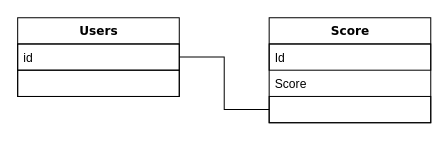
Image size: 448x143. Some labels were removed from this diagram. The shapes that lost their labels are listed below. From the top down, each one's box as (x1, y1, x2, y2) in pixels, then its label:
(17, 69, 179, 96): Name
(268, 95, 431, 123): Id_player
